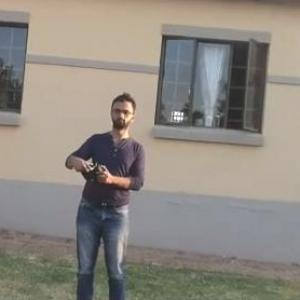follow: (60, 83, 156, 299)
